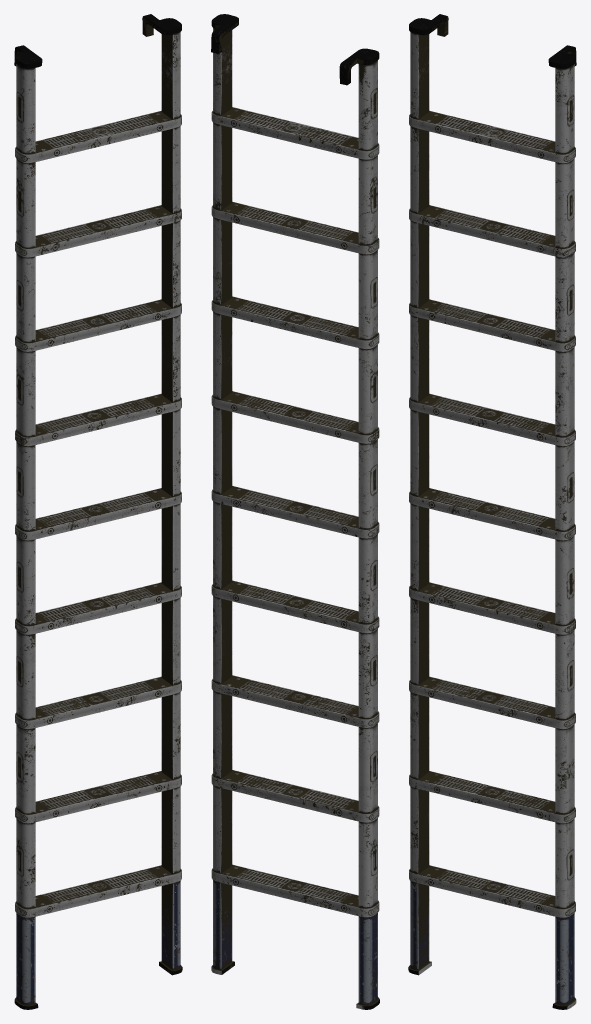
The model's file is ladder_metallic_tool.glb.
3 views of the same model, side by side, from view 1: azimuth 30°, elevation 25°; view 2: azimuth 150°, elevation 25°; view 3: azimuth 330°, elevation 25° (orthographic).
Visible parts, largest first — view 1: Object_3; view 2: Object_3; view 3: Object_3.
Part boxes in pixels (x1,y1,x2,y2): Object_3: (14,14,182,1009); Object_3: (211,14,379,1009); Object_3: (408,14,576,1009).
Size of the model in its own units: 57.16 by 321 by 14.1.
Materials: 1 (1 with a texture image).
